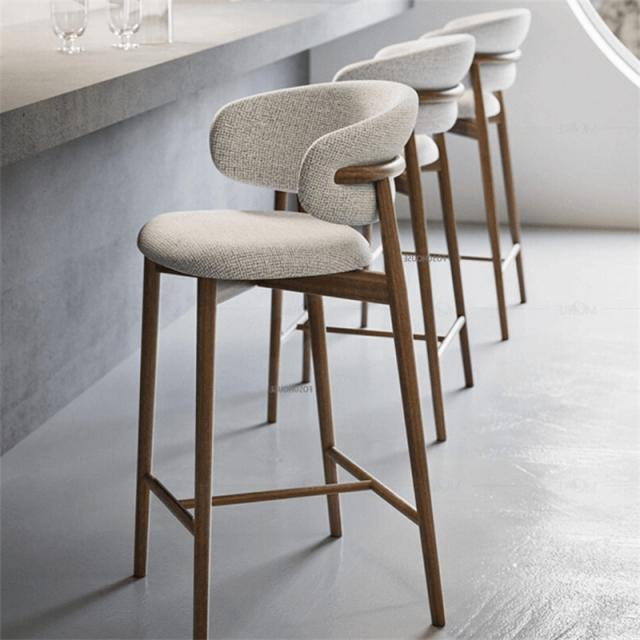chair: (130, 75, 446, 640), (297, 78, 488, 466), (136, 80, 421, 270), (408, 6, 546, 344), (357, 35, 468, 166), (413, 2, 531, 124)
